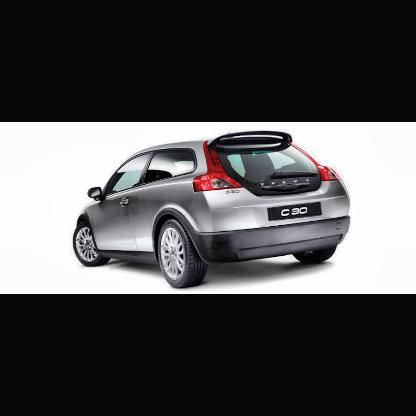Volvo C30 Hatchback 2012: (73, 132, 354, 288)
